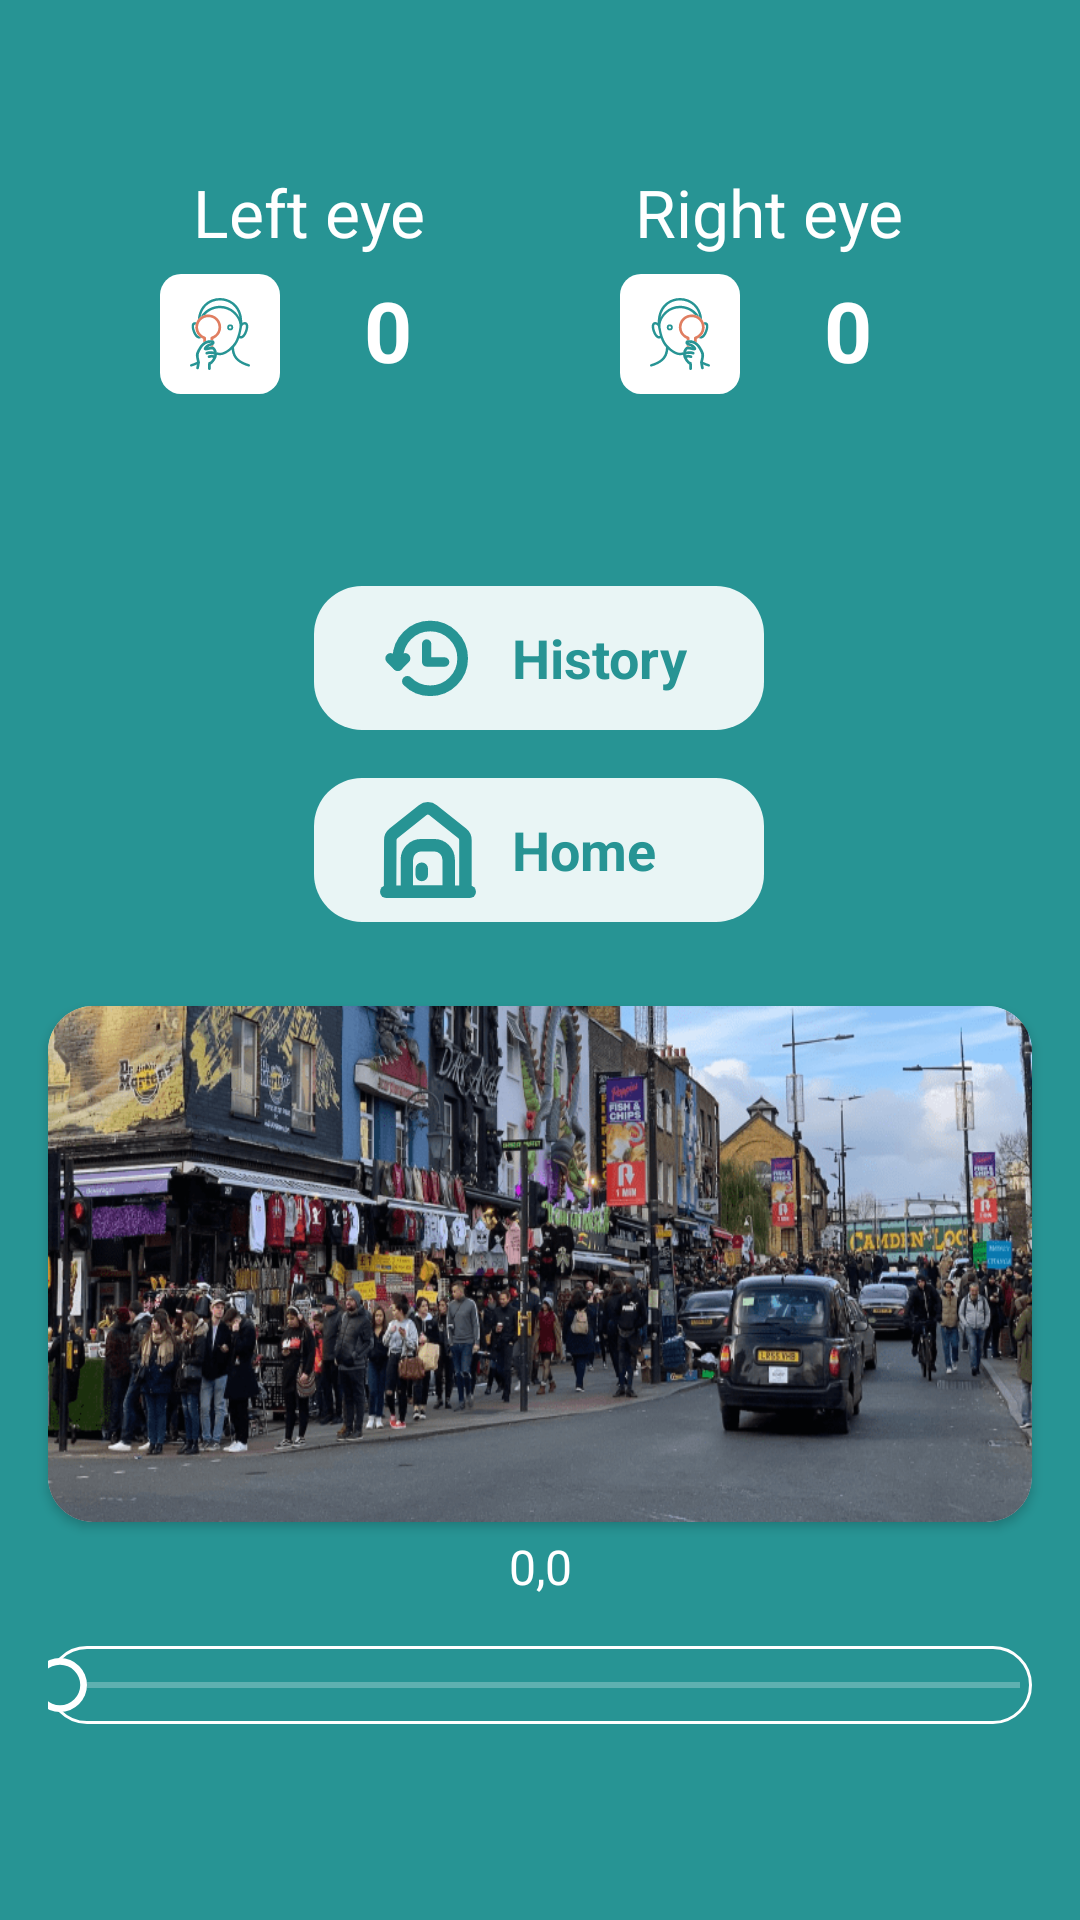

Point at icon controls on the screen. Image size 1080px×1920px, points as [x,y].
house: [428,850]
